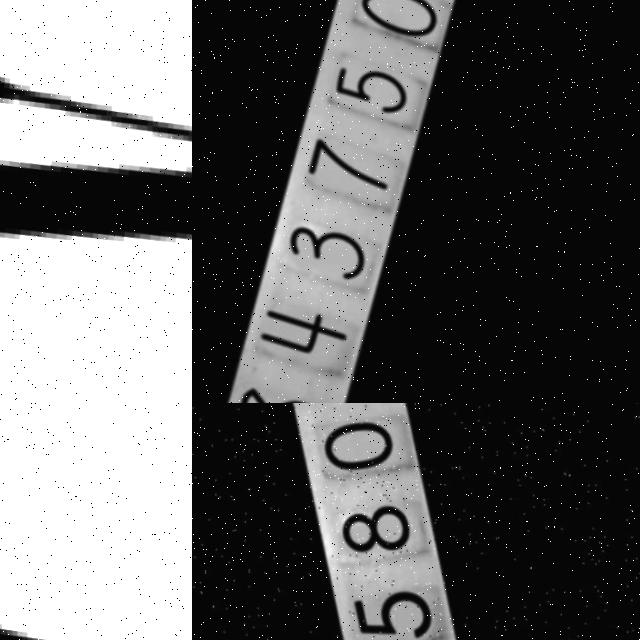0: (292, 404, 410, 498), (338, 0, 446, 57)
3: (262, 213, 370, 296)
4: (235, 293, 351, 383)
5: (321, 572, 442, 640), (314, 54, 414, 132)
7: (285, 131, 396, 217)
8: (309, 490, 422, 581), (209, 376, 324, 403)
V: (0, 37, 192, 343)
Y: (0, 422, 192, 640)
